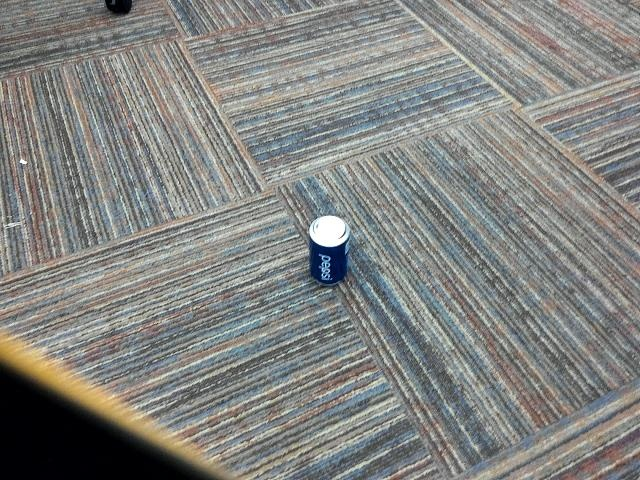can: (301, 216, 354, 293)
